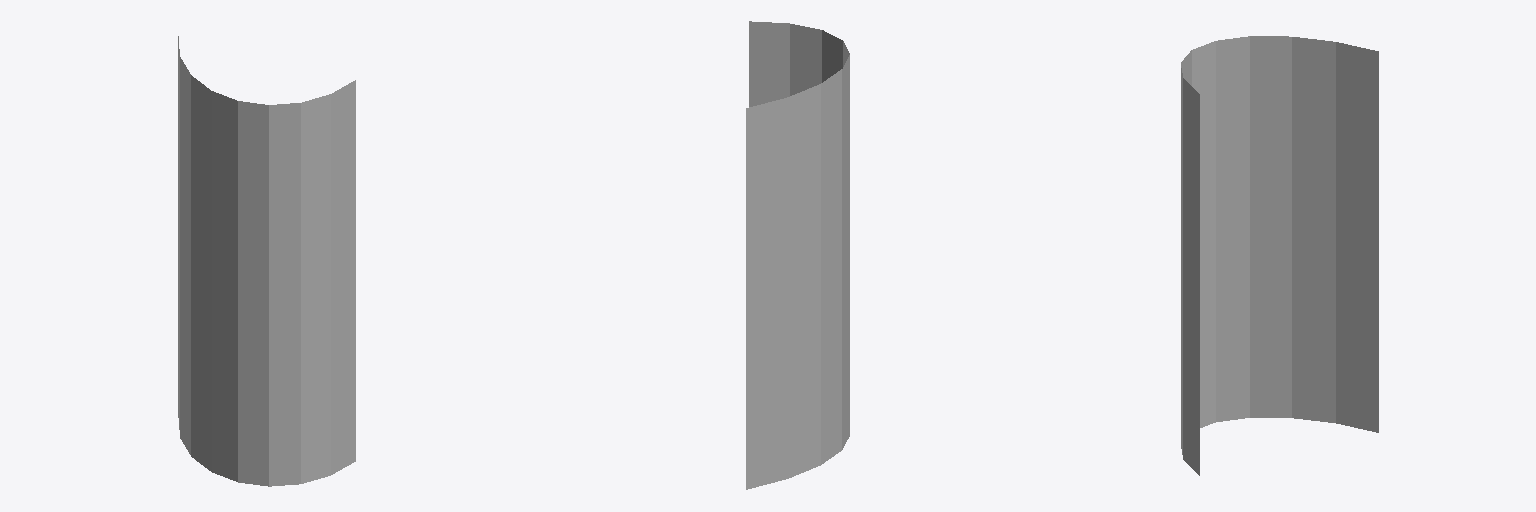
File: Blockage1.obj
3 renders of one model, left to right at view 1: azimuth 30°, elevation 25°; view 2: azimuth 150°, elevation 25°; view 3: azimuth 270°, elevation 25°, orthographic.
Parts seen in each view (by area): view 1: Blockage1; view 2: Blockage1; view 3: Blockage1.
Part boxes in pixels (x1,y1,x2,y2): Blockage1: (178,36,355,486); Blockage1: (746,21,849,489); Blockage1: (1181,36,1378,475).
Size of the model in its own units: 23.16 by 71.04 by 33.53.